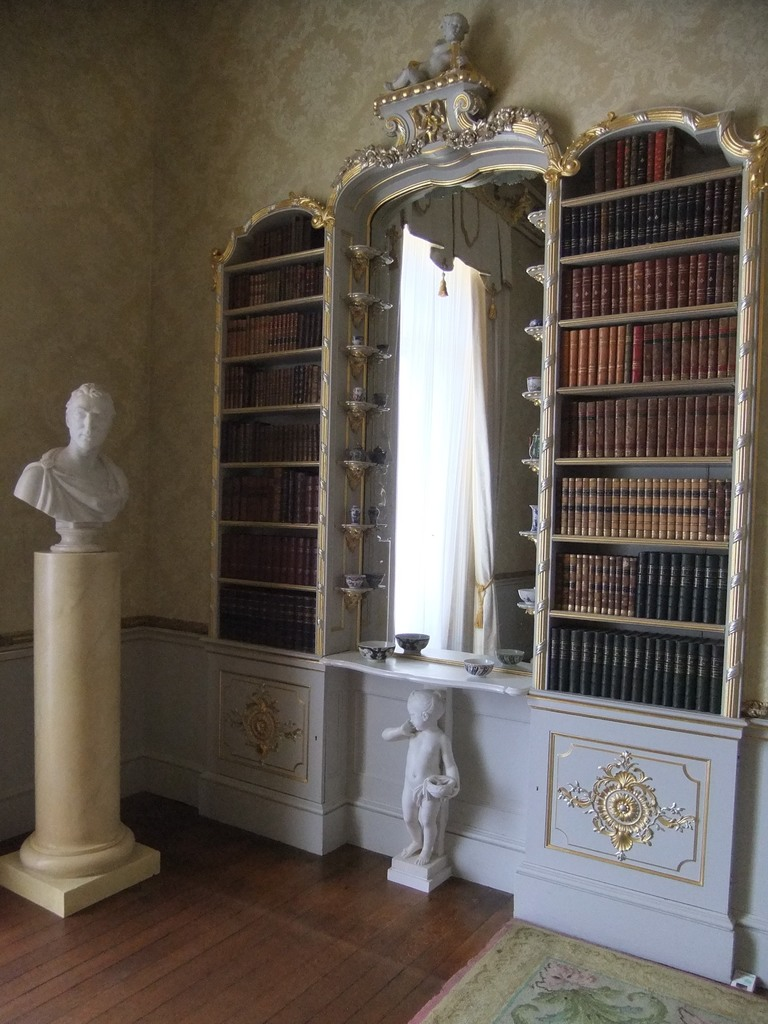Cabinetry: (205, 58, 742, 902)
